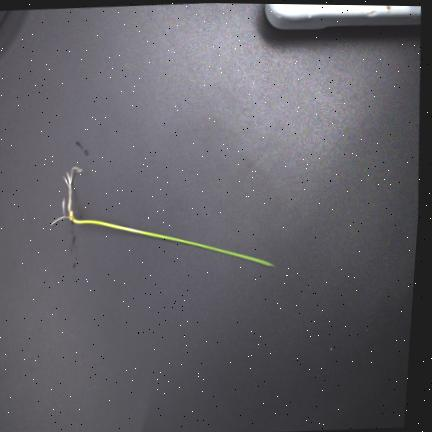leaf: (141, 229, 274, 268)
root1: (66, 172, 72, 211)
root2: (68, 167, 82, 213)
root3: (64, 176, 72, 213)
root4: (63, 198, 69, 218)
root5: (50, 217, 69, 225)
stem: (70, 212, 140, 232)
